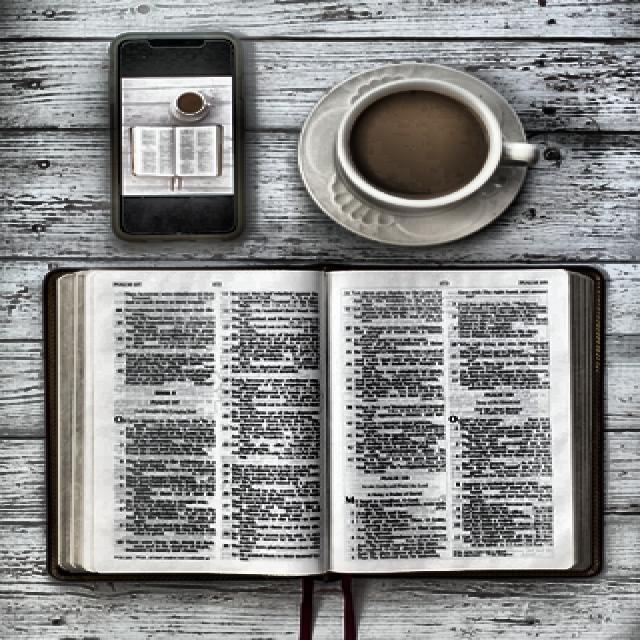Phone: (108, 32, 246, 243)
